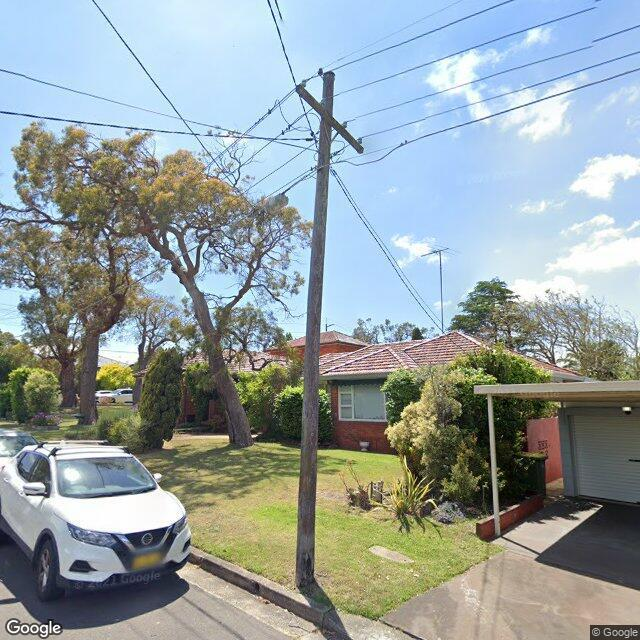crossarm: (296, 83, 365, 156)
timber-pole: (294, 71, 336, 586)
